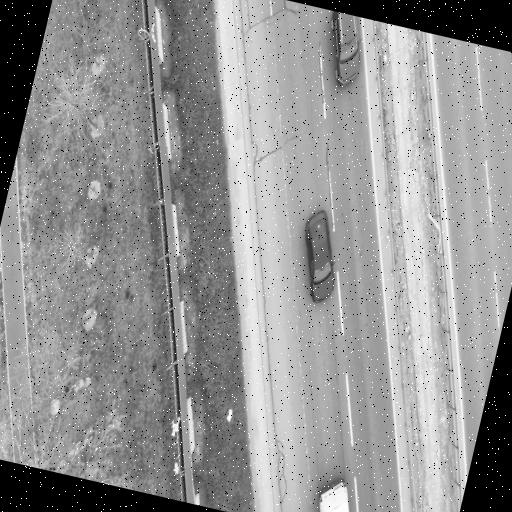car: (305, 210, 333, 301), (331, 11, 359, 85)
truck: (319, 479, 348, 511)
